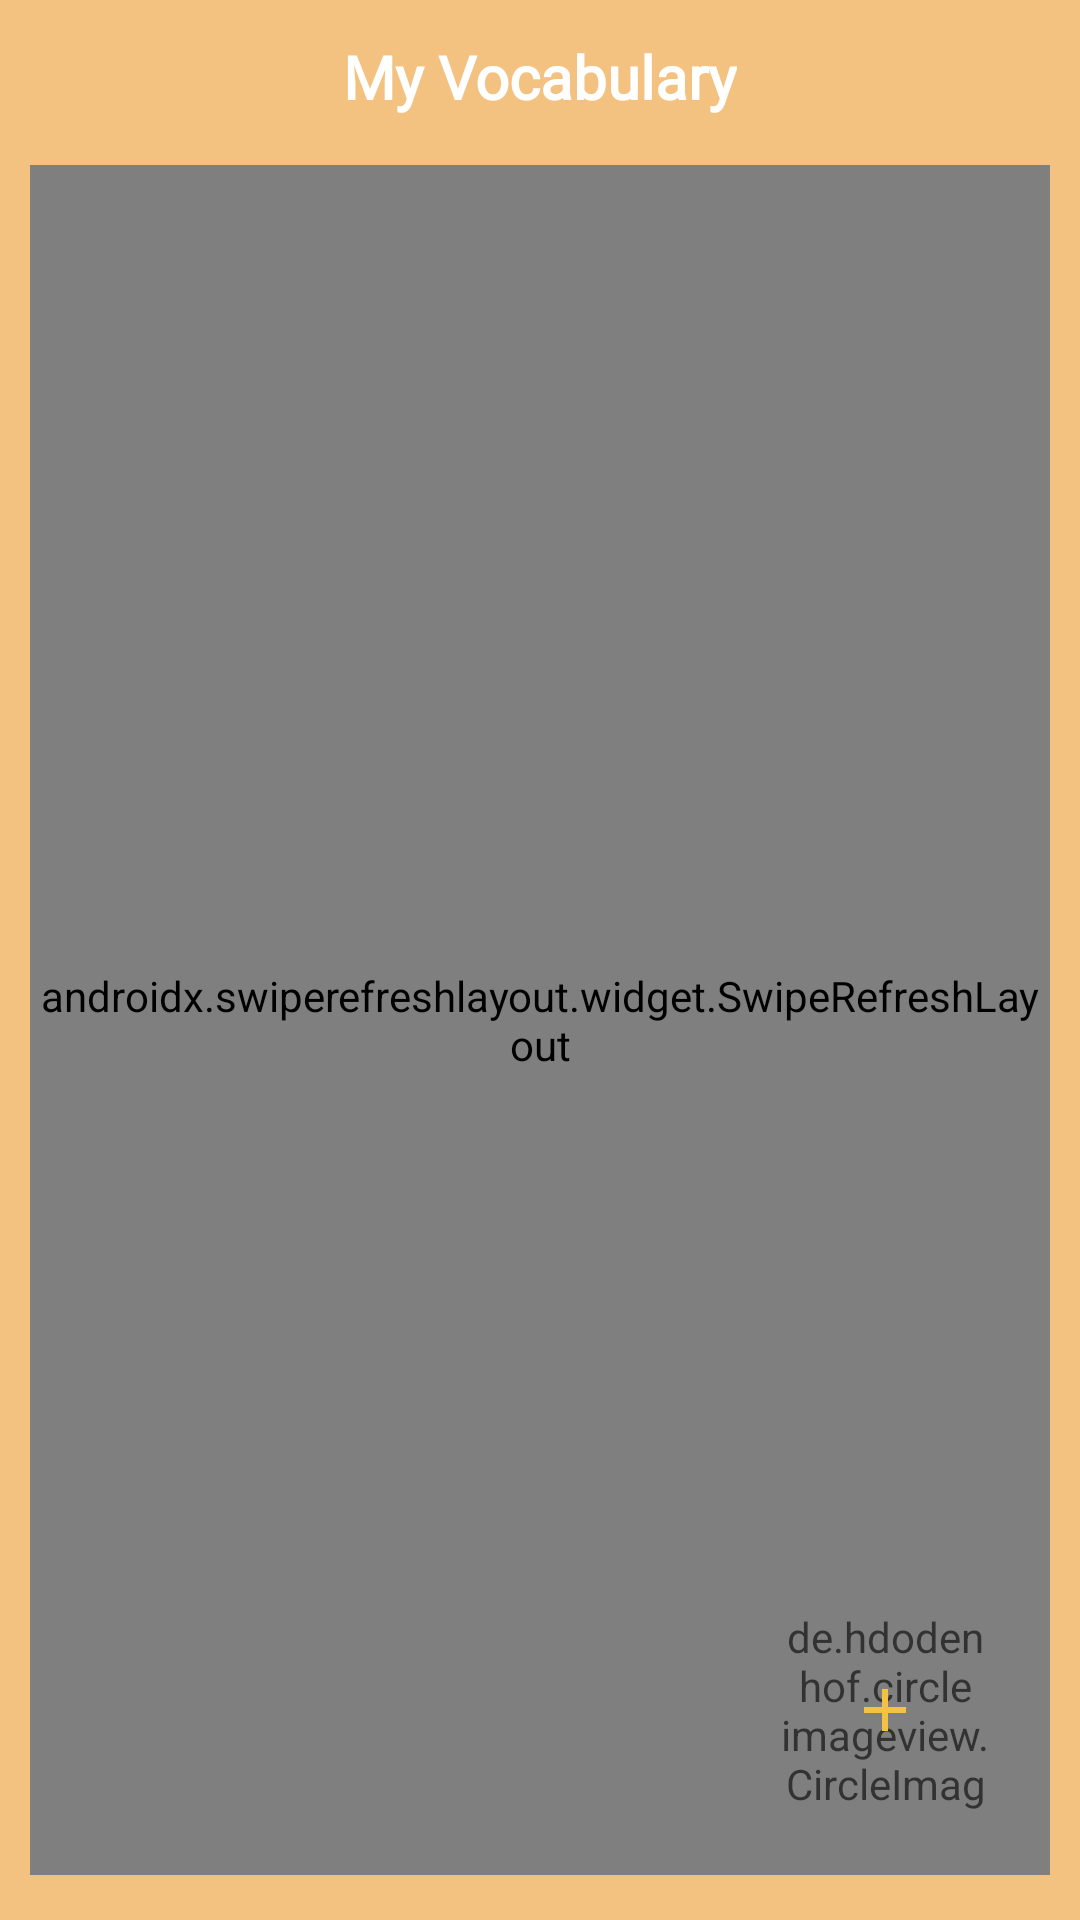

Icon bounding boxes for this 1080 x 1920 phone screenshot, format (x1, y1, x2, y2):
add: (849, 1674, 921, 1746)
